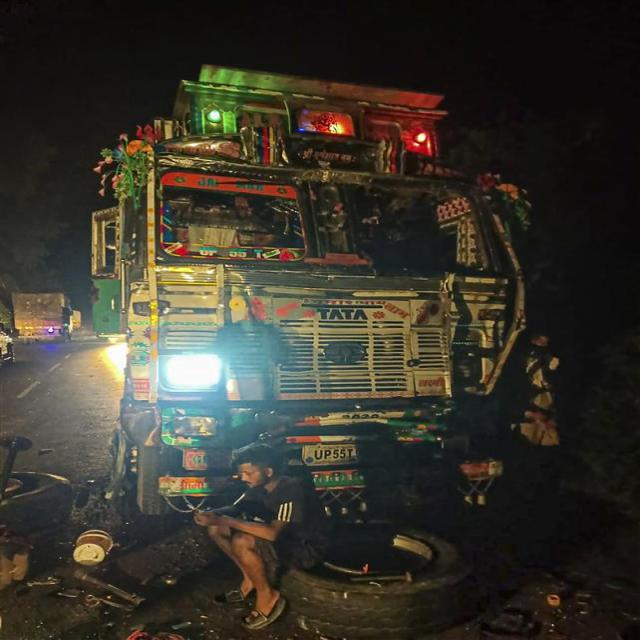accident: (90, 66, 559, 638)
